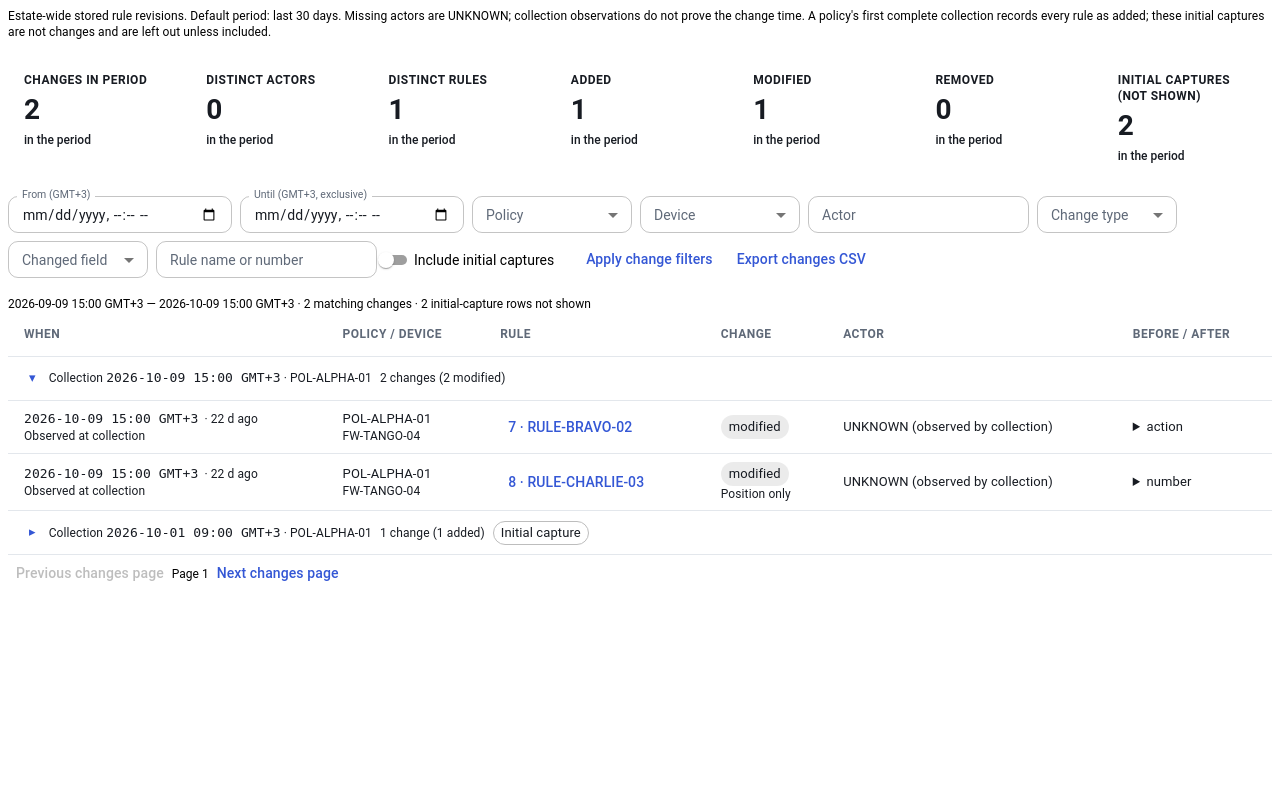
Test: groups rows by collection, collapses initial captures and toggles them on request
Check: the text "2 changes (2 modified)" is shown, box [380,370,505,386]
Check: the text "Position only" is shown, box [721,487,791,501]
Click the button named "Collection 2026-10-01 09:00 GMT+3 POL-ALPHA-01". click: [32, 533]
box: [24,517,41,548]
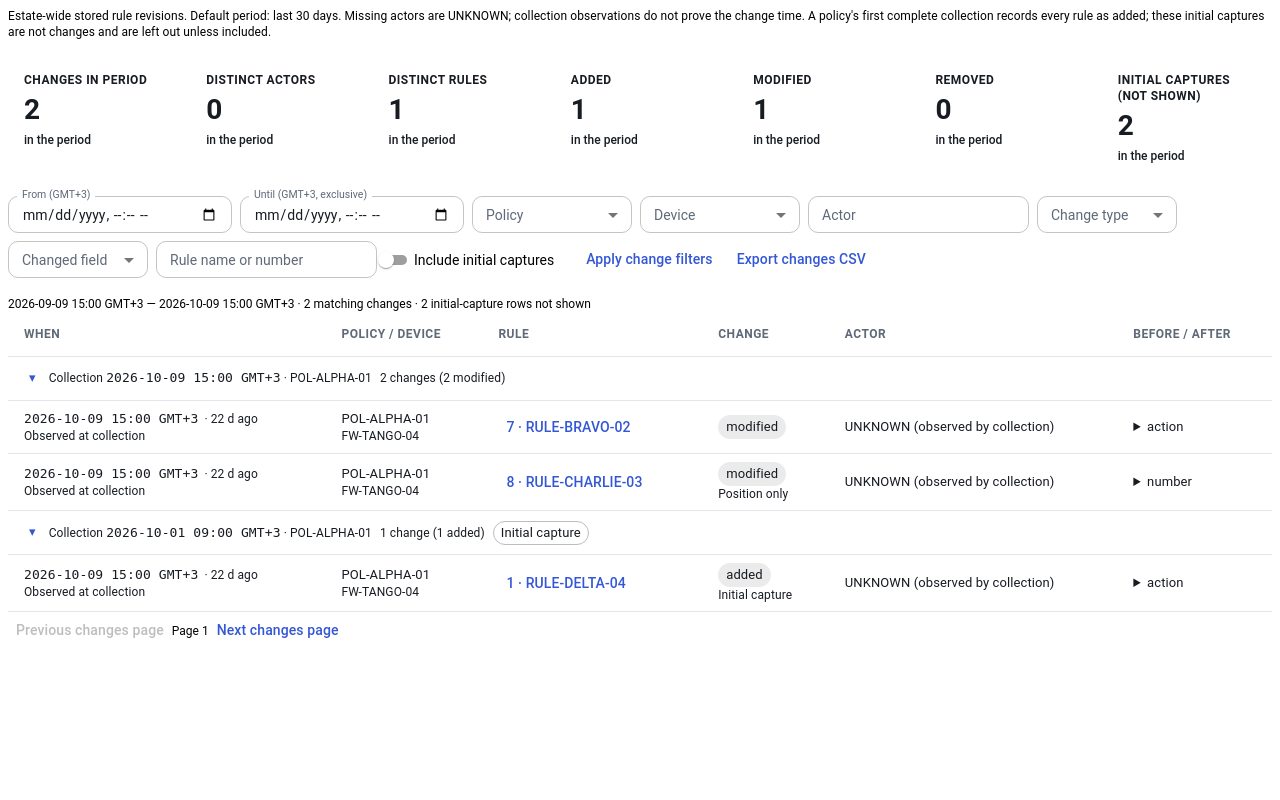
Check: the button "1 · RULE-DELTA-04" is shown, box [498,565,634,602]
Click the button named "Collection 2026-10-09 15:00 GMT+3 POL-ALPHA-01". click: [32, 378]
box: [24,363,41,394]
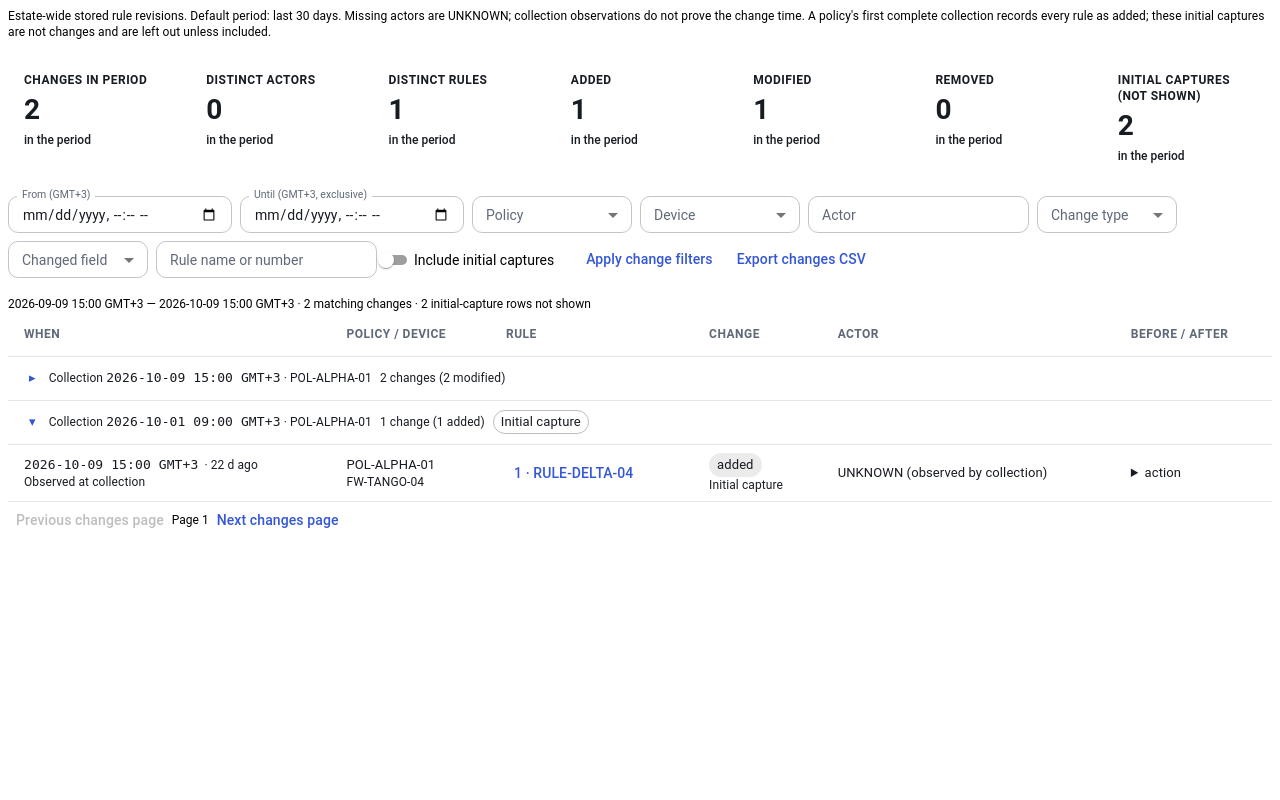
Check: the text "Initial captures (not shown)" is shown, box [1118,73,1230,103]
Check: the button "7 · RULE-BRAVO-02" is gone
Click the checkbox labelled "Include initial captures". click: [464, 260]
box: [374,248,554,272]
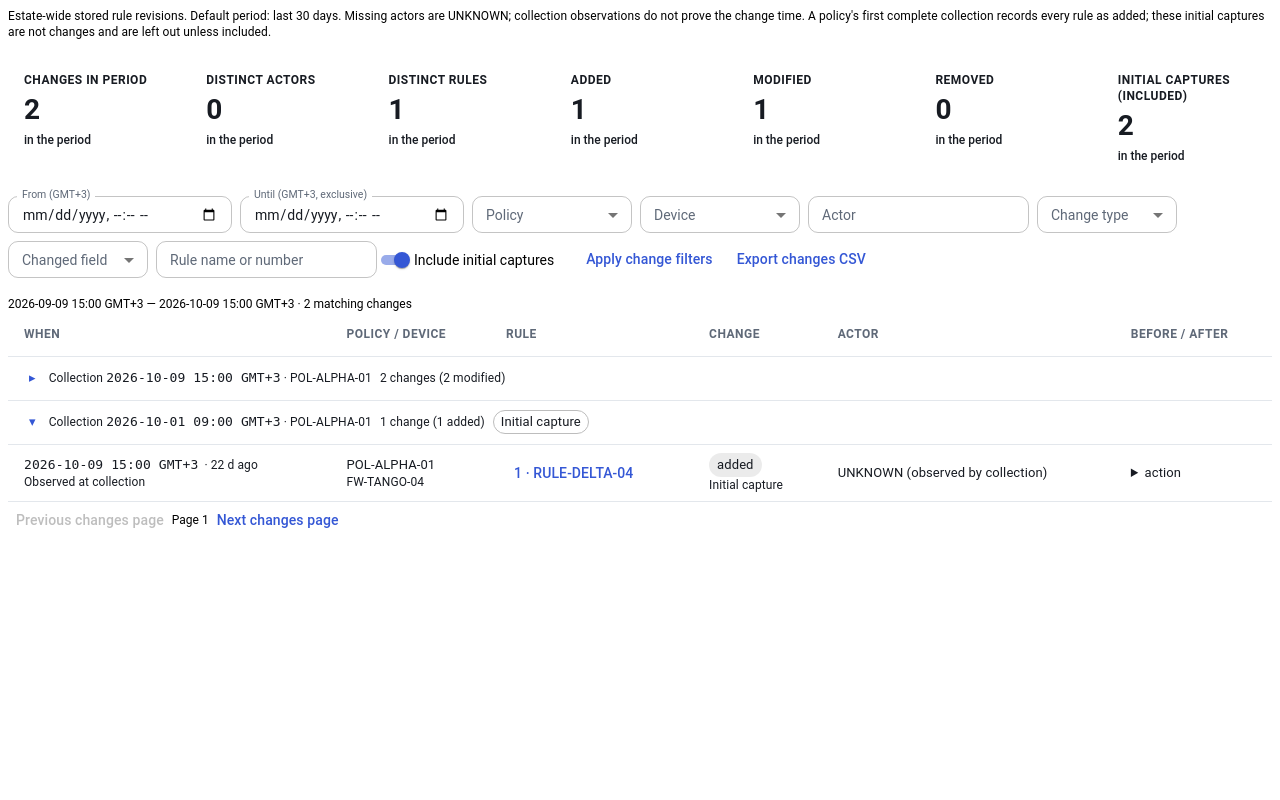
Check: the text "Initial captures (included)" is shown, box [1118,73,1230,103]
